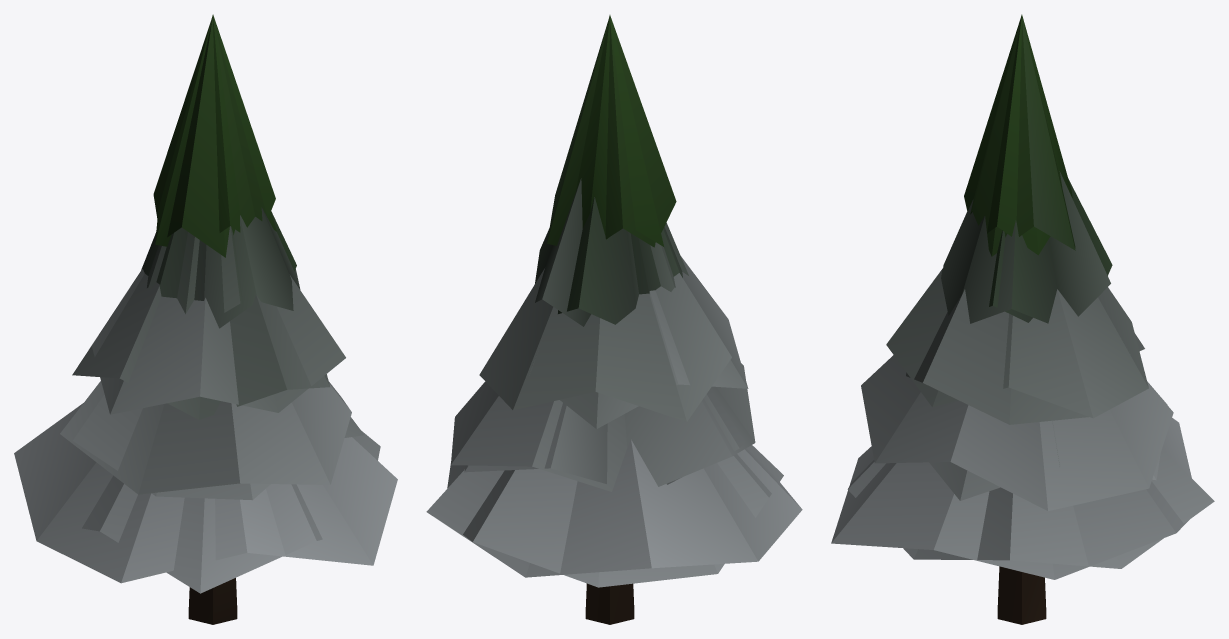
Rendered from trees_frost.glb.
3 views of the same model, side by side, from view 1: azimuth 30°, elevation 25°; view 2: azimuth 150°, elevation 25°; view 3: azimuth 270°, elevation 25° (orthographic).
Parts seen in each view (by area): view 1: v0, v1; view 2: v1, v0; view 3: v1, v0.
Boxes of the visible parts, <box> form: v0: <box>14,16,397,624</box>; v1: <box>60,14,380,593</box>; v1: <box>447,15,783,587</box>; v0: <box>426,18,802,624</box>; v1: <box>847,14,1214,568</box>; v0: <box>831,19,1191,624</box>.
Bounding box in the file's own units: 0.87 × 1.54 × 0.8922.
